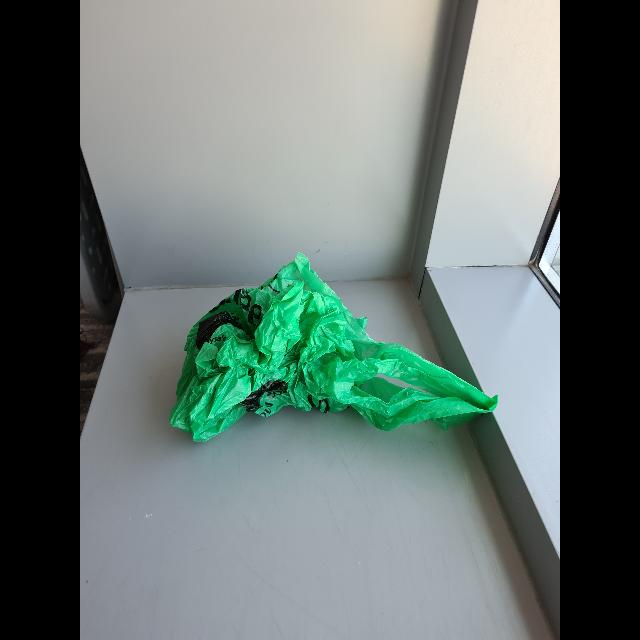plastic_bag: (126, 250, 504, 470)
